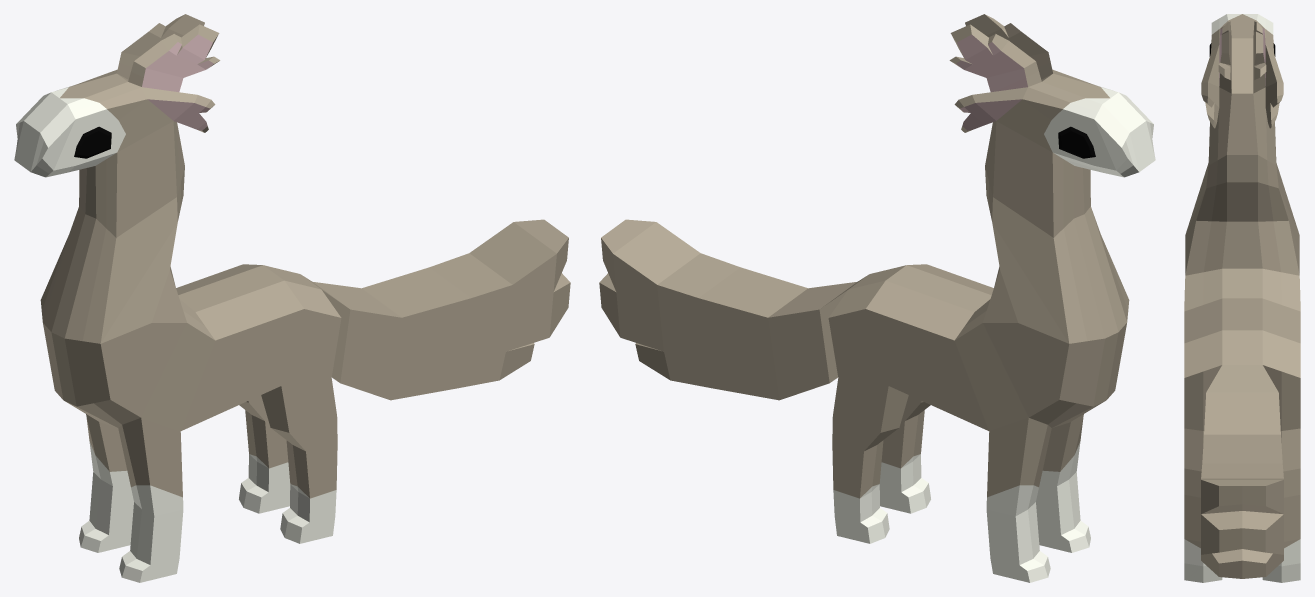
File: Evangaline.fbx
The picture shows the model from 3 angles, left to right: view 1: azimuth 30°, elevation 25°; view 2: azimuth 150°, elevation 25°; view 3: azimuth 270°, elevation 25°; orthographic projection. The views are drawn at different scales.
Visible parts, largest first — view 1: Plane; view 2: Plane; view 3: Plane.
Boxes of the visible parts, x1,y1,x2,y2 form: Plane: [14, 14, 570, 582]; Plane: [599, 14, 1155, 582]; Plane: [1184, 14, 1300, 582].
Bounding box in the file's own units: 413 × 383 × 81.32.
